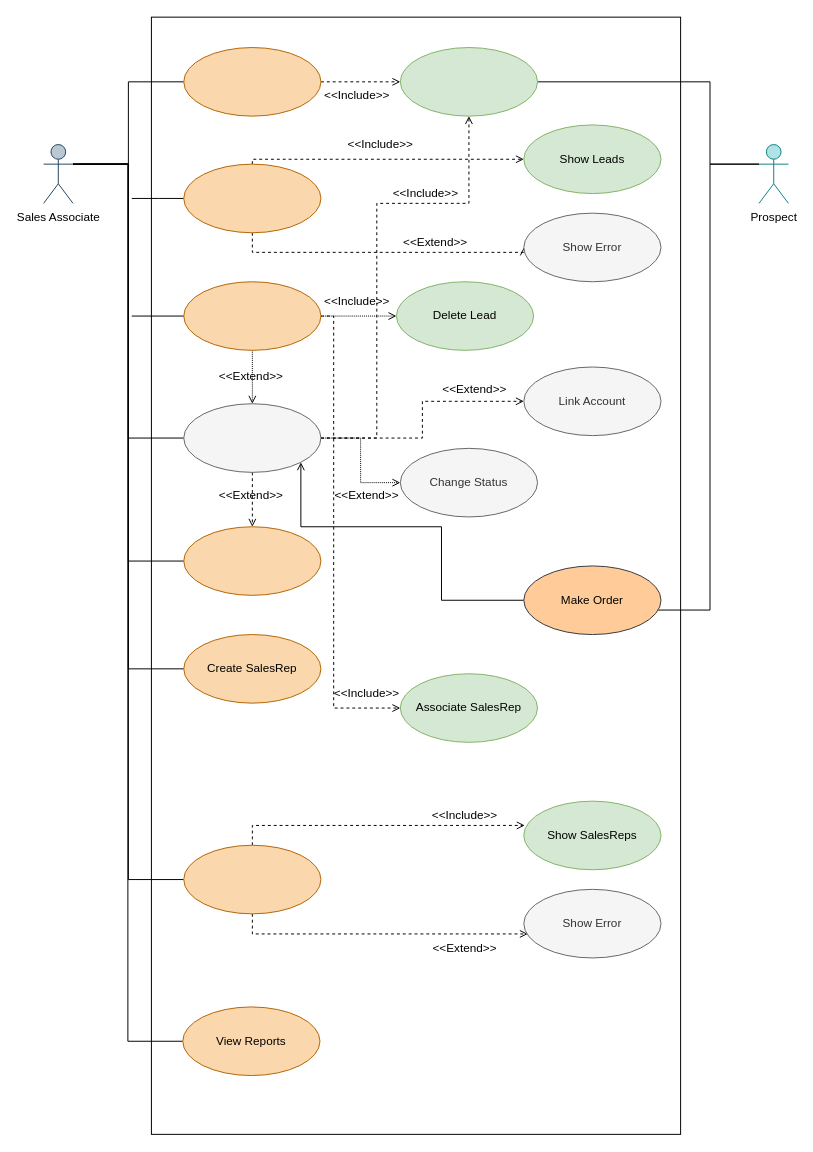
The diagram is 813 pixels wide and 1152 high, and some of its shapes have lost their labels. The shapes that lost their labels are listed below. From the top down, each one's box as (x1, y1, x2, y2) in pixels, then its label:
(183, 47, 321, 116): Create Lead
(399, 47, 538, 116): Insert Details
(183, 163, 321, 233): View Leads
(183, 281, 321, 350): Convert Lead
(183, 403, 321, 472): Create Opportunity
(183, 526, 321, 595): Create Account
(183, 844, 321, 914): View SalesReps
